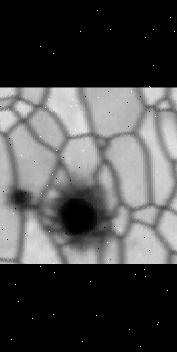good_void: (31, 162, 112, 264), (0, 178, 33, 223)
